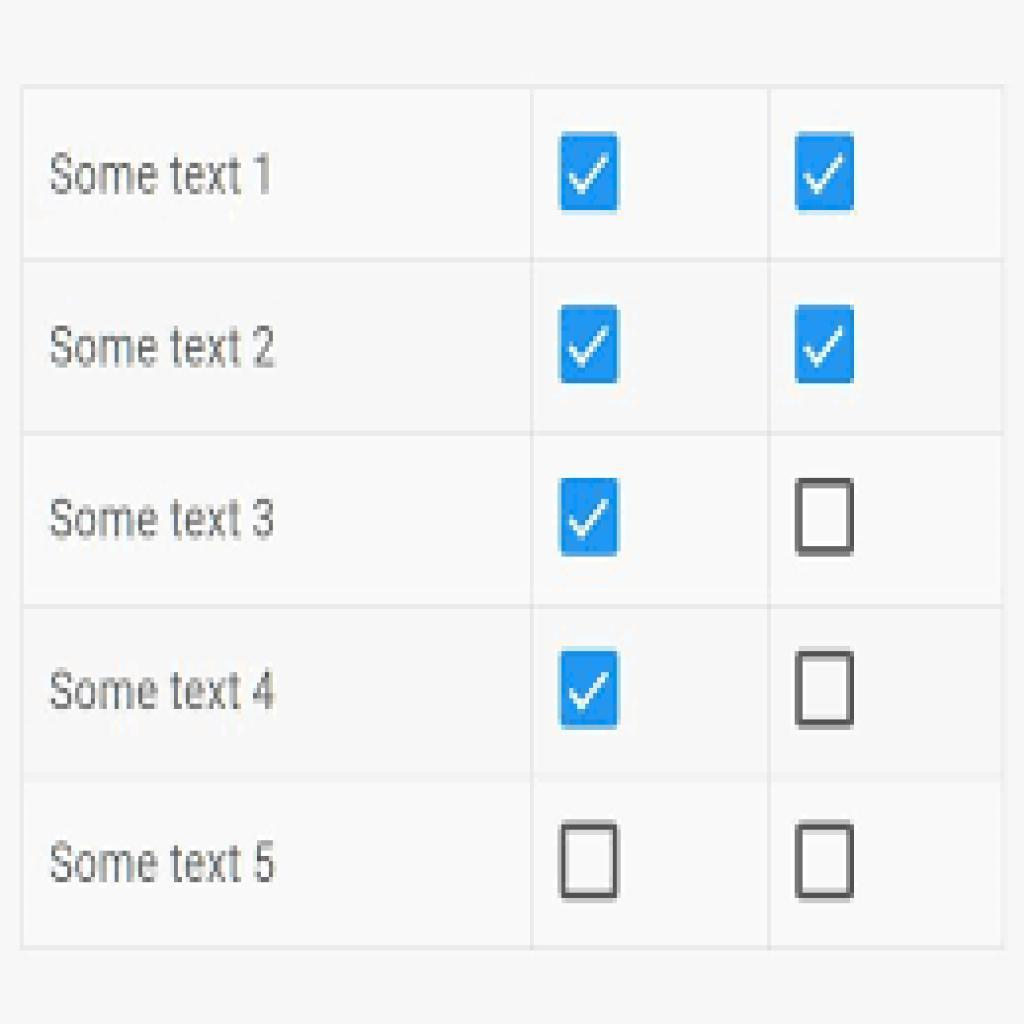checkbox: (793, 304, 856, 388), (560, 132, 621, 211), (560, 477, 619, 557), (559, 305, 619, 383), (796, 137, 857, 212), (562, 652, 619, 729), (799, 651, 852, 727), (799, 826, 855, 896), (564, 826, 616, 899), (802, 482, 851, 555)
table: (19, 88, 1003, 944)
